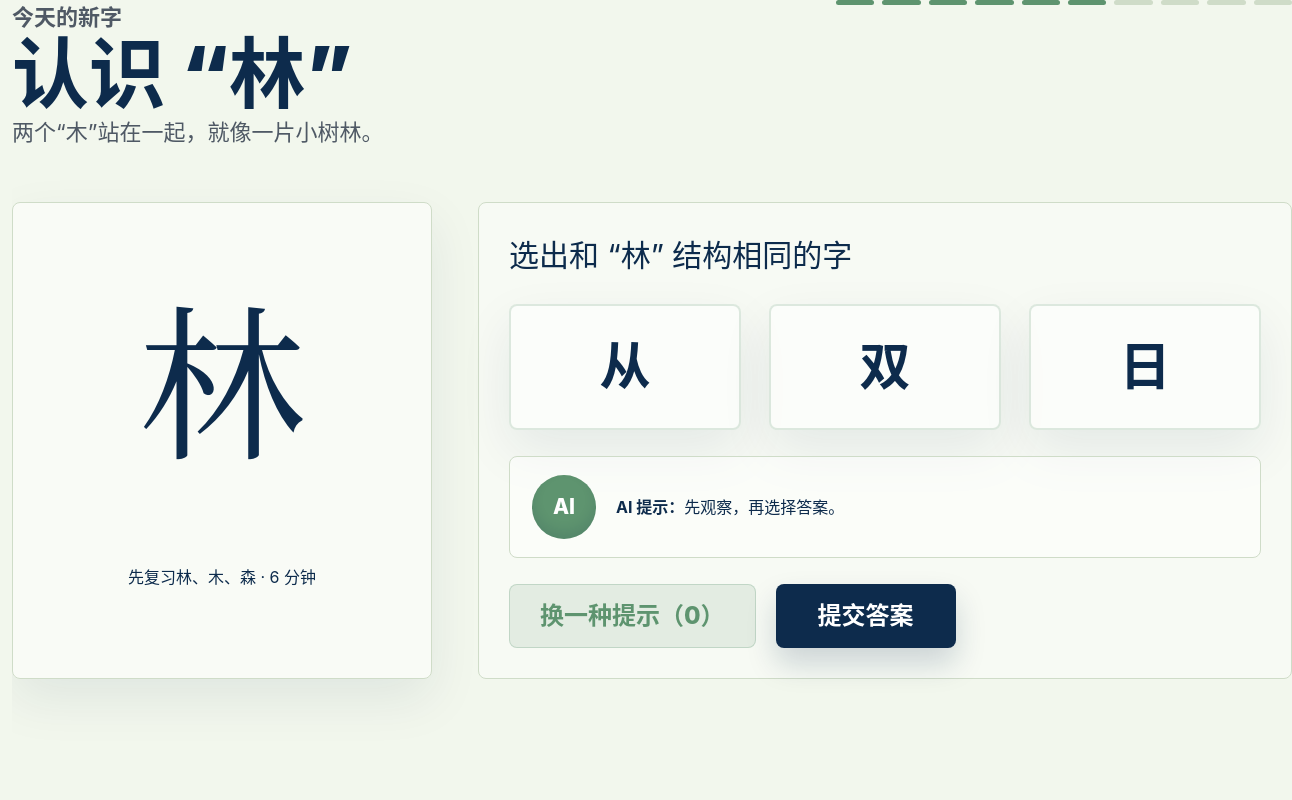
TaskPractice › keeps the child on the same question when event persistence fails
Click the button "双" at (885, 367), box [769,304,1001,430]
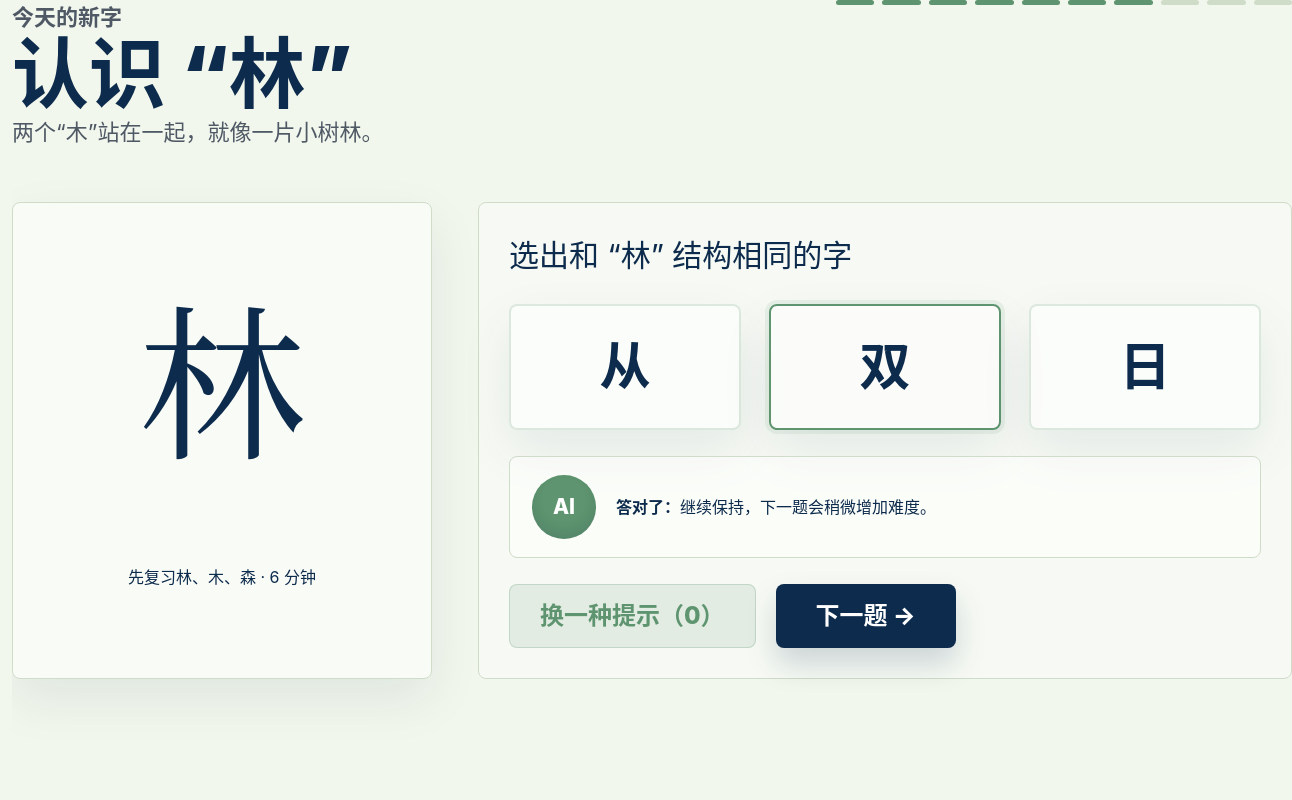
Click the button "下一题 →" at (866, 616), box [776,584,956,648]
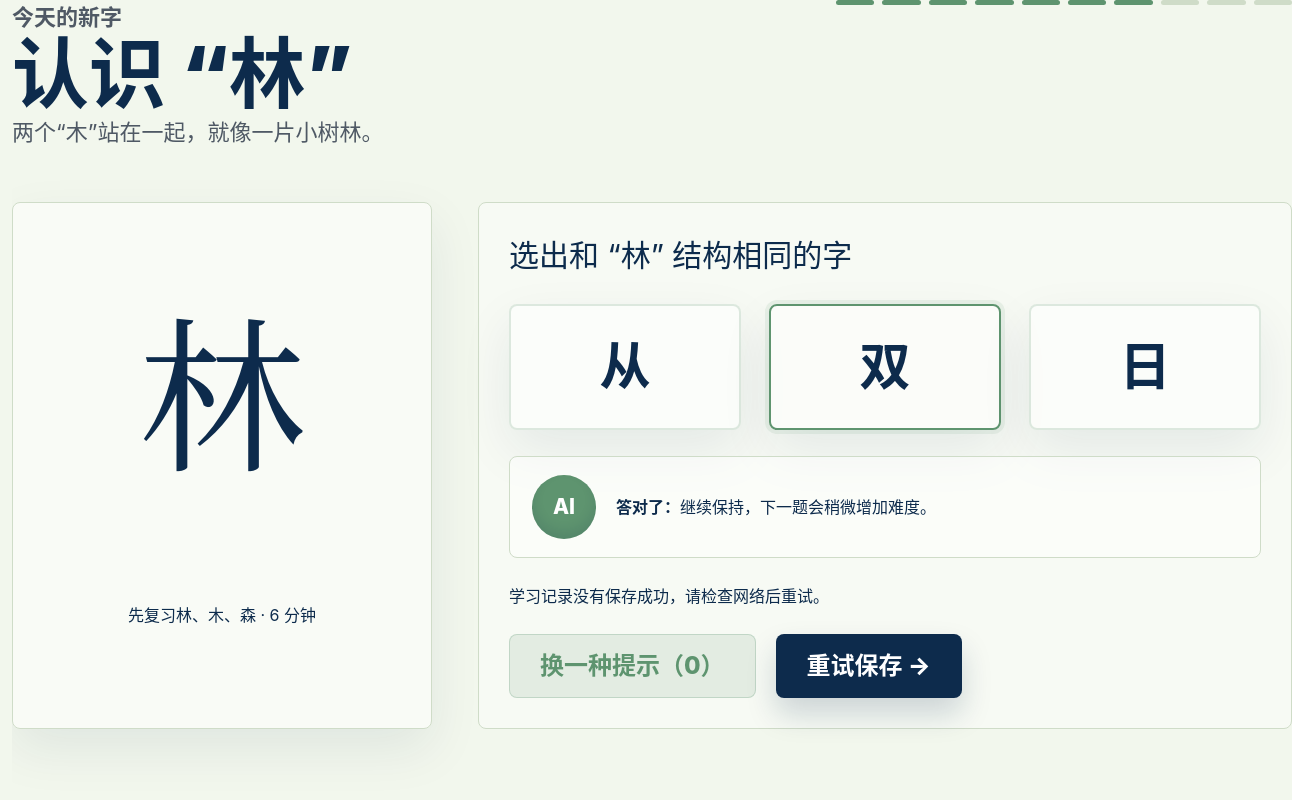
Expected: the text "AI 提示：" is not shown
Expected: the button "重试保存 →" is shown, [776,634,962,698]
